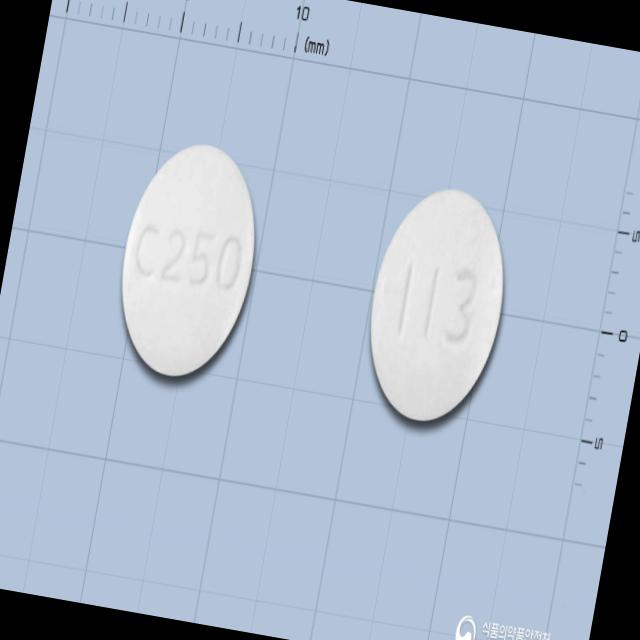Ciprofloxacin Hcl Tab- Ilyang: (347, 168, 529, 441), (103, 130, 278, 397)
